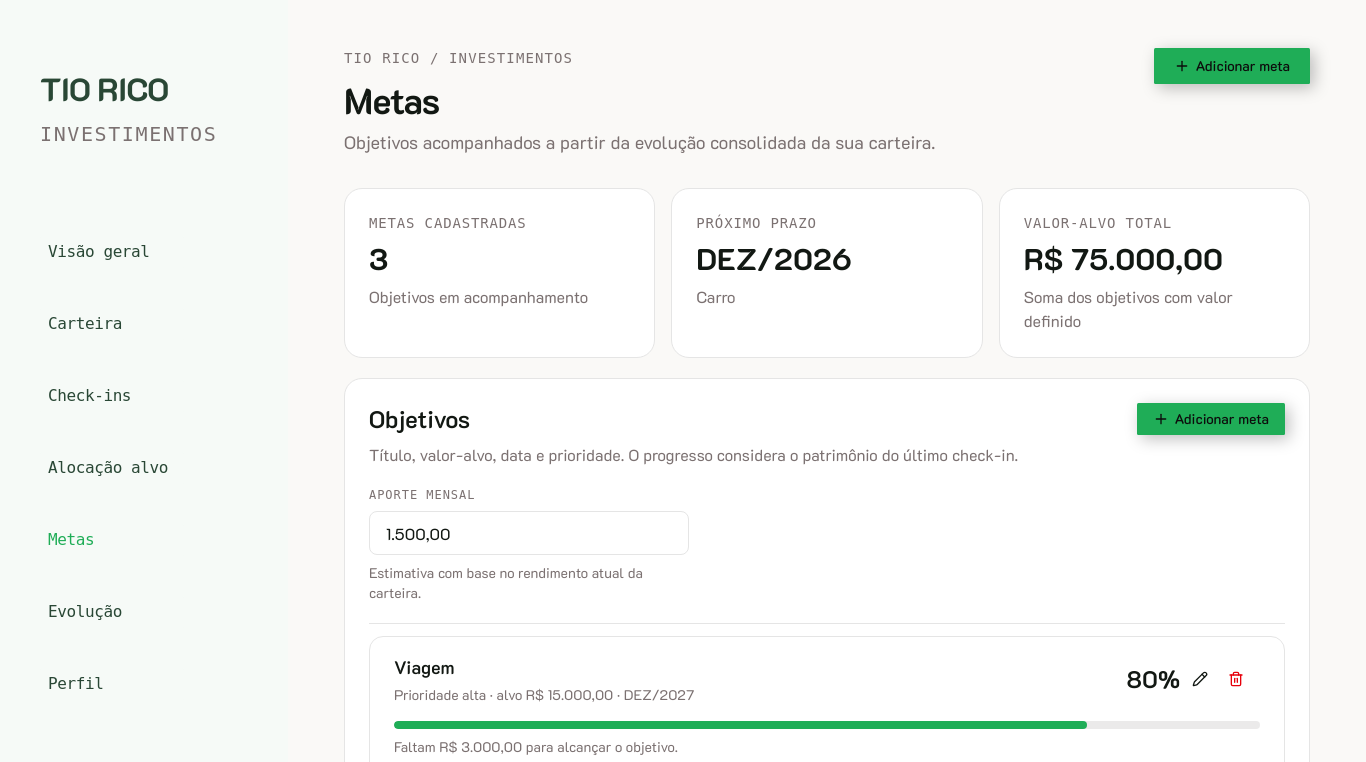
Test: Goals: projeção de quando cada meta é alcançada (#94) › nunca chega: sem aporte e sem rendimento
Step 1. Clear the field labelled "Aporte mensal" → (529, 533), box [369, 511, 689, 555]
(page scrolled)
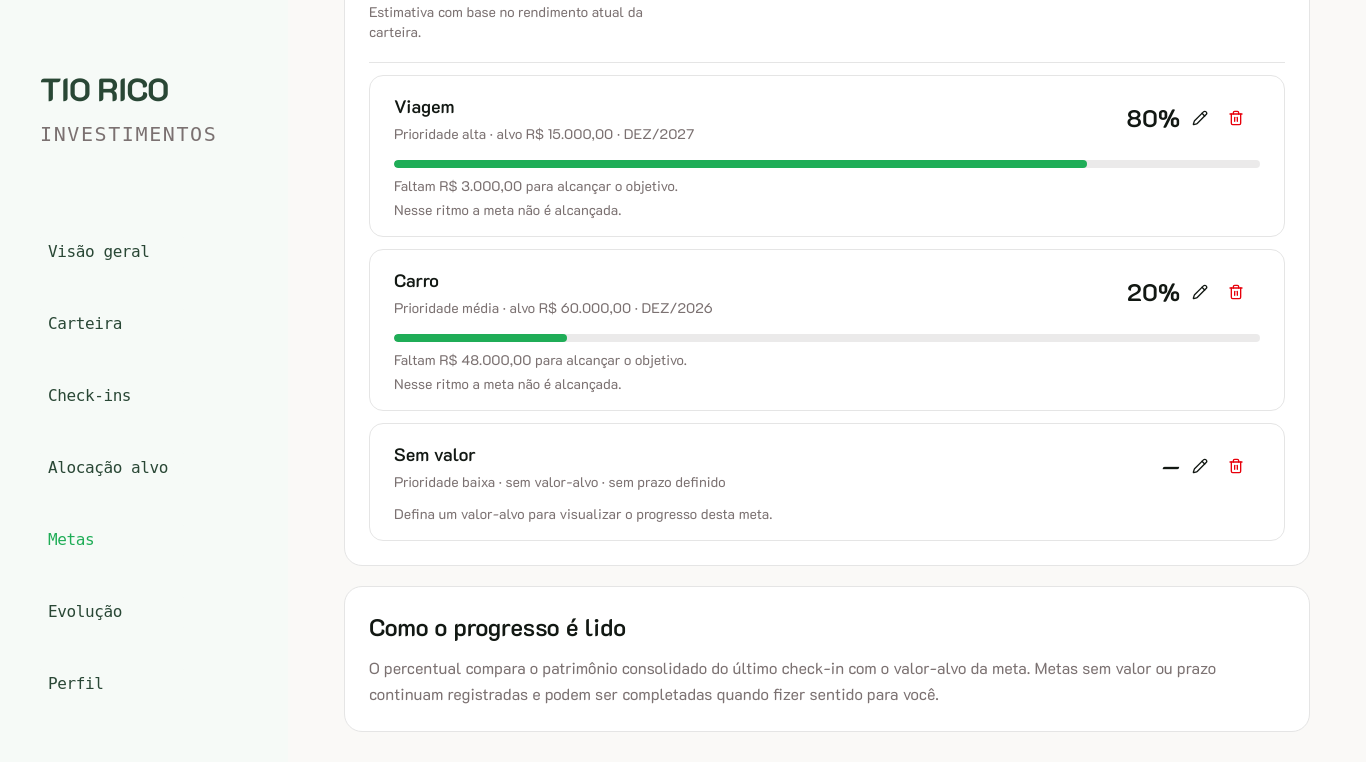
Result: the text "Nesse ritmo a meta não é alcançada." below "80%" is shown at [394, 200, 621, 219]
Result: the text "Nesse ritmo a meta não é alcançada." below "20%" is shown at [394, 374, 621, 393]
